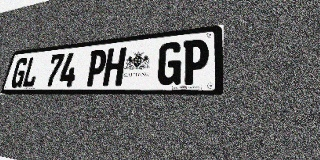4: (58, 52, 80, 87)
7: (43, 53, 65, 87)
G: (156, 41, 183, 85), (9, 57, 29, 88)
H: (102, 47, 127, 86)
L: (21, 56, 41, 88)
P: (181, 38, 209, 85), (84, 49, 108, 86)
